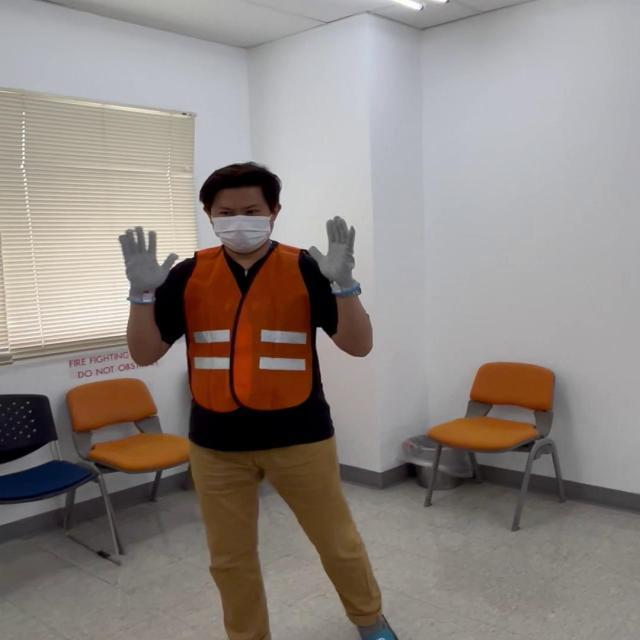gloved_hand: (117, 226, 176, 301), (306, 216, 363, 292)
